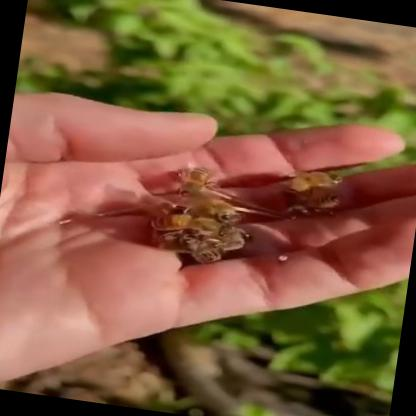bee: (81, 126, 388, 299)
